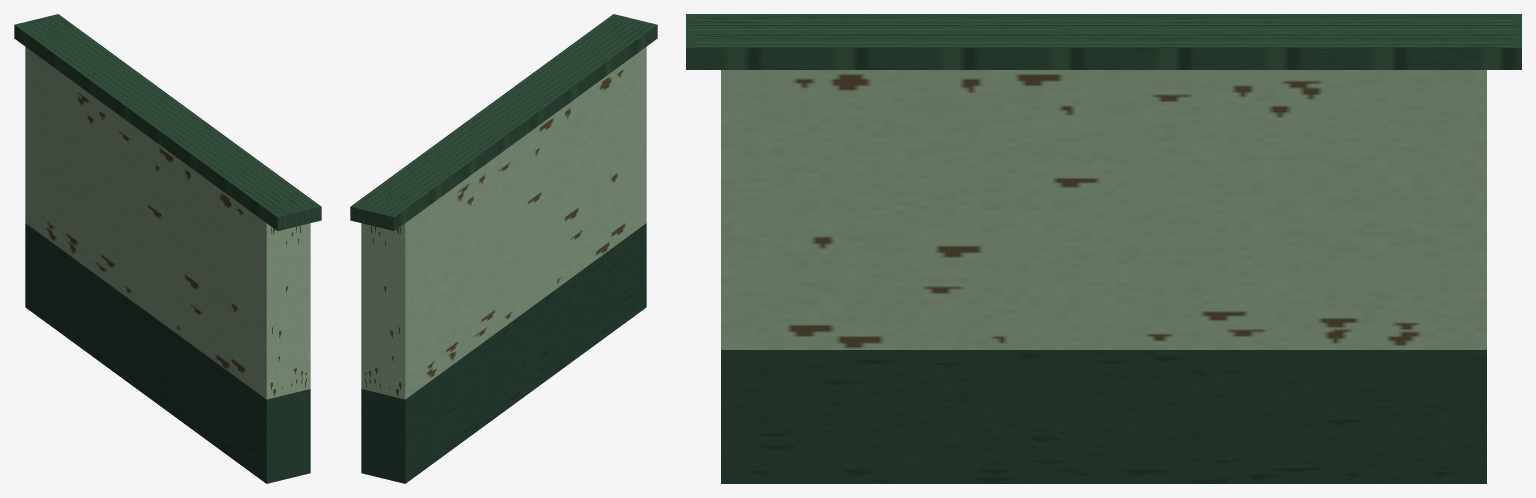
File: AnnexJoint.fbx
3 views of the same model, side by side, from view 1: azimuth 30°, elevation 25°; view 2: azimuth 150°, elevation 25°; view 3: azimuth 270°, elevation 25° (orthographic). The views are drawn at different scales.
Visible parts, largest first — view 1: AnnexJoint; view 2: AnnexJoint; view 3: AnnexJoint.
Boxes of the visible parts, <box> form: AnnexJoint: <box>14,14,321,483</box>; AnnexJoint: <box>350,14,657,483</box>; AnnexJoint: <box>686,14,1521,483</box>.
Size of the model in its own units: 60 by 358 by 622.
